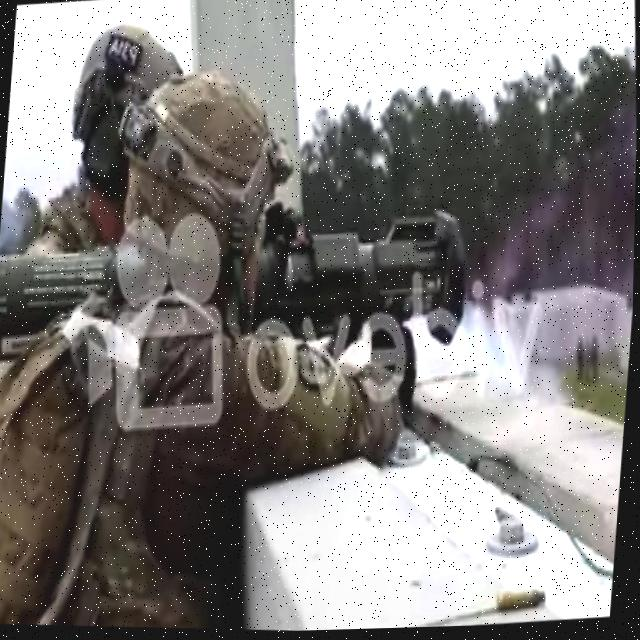rocket: (0, 185, 482, 395)
